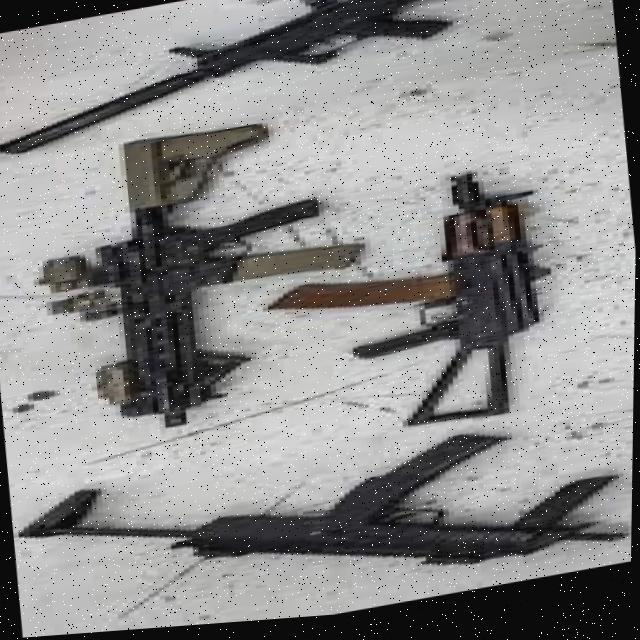firearm: (16, 402, 634, 639), (21, 107, 377, 449), (0, 0, 612, 158), (249, 166, 559, 460)
